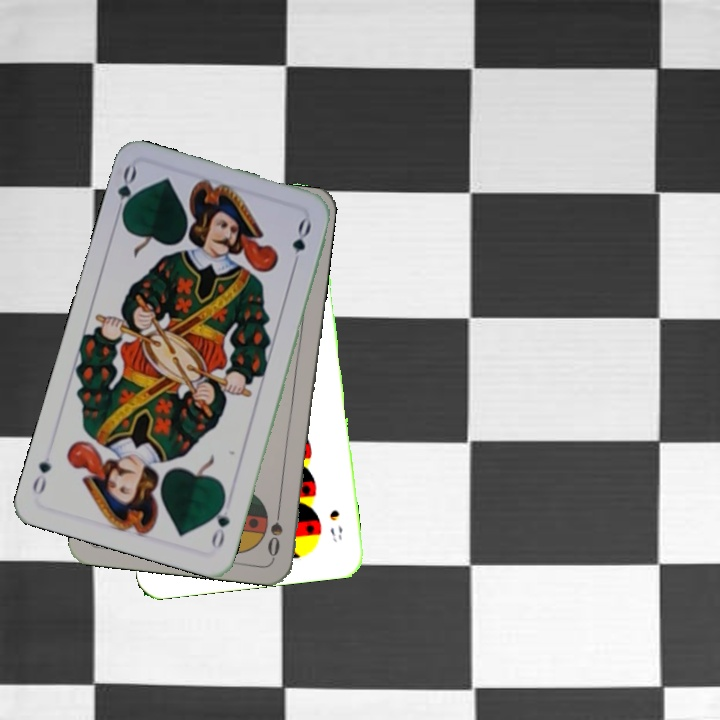GO: (111, 162, 141, 222), (207, 493, 233, 551)
S8: (325, 505, 346, 545)
SO: (263, 500, 285, 559)
